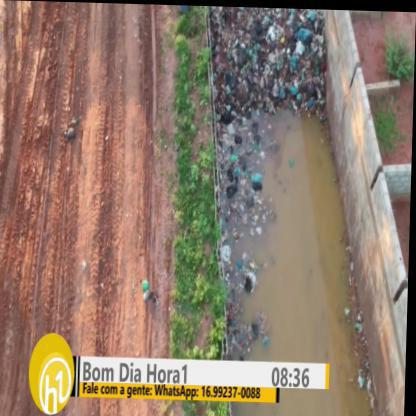agua: (259, 120, 328, 358)
lixo: (220, 7, 323, 113)
